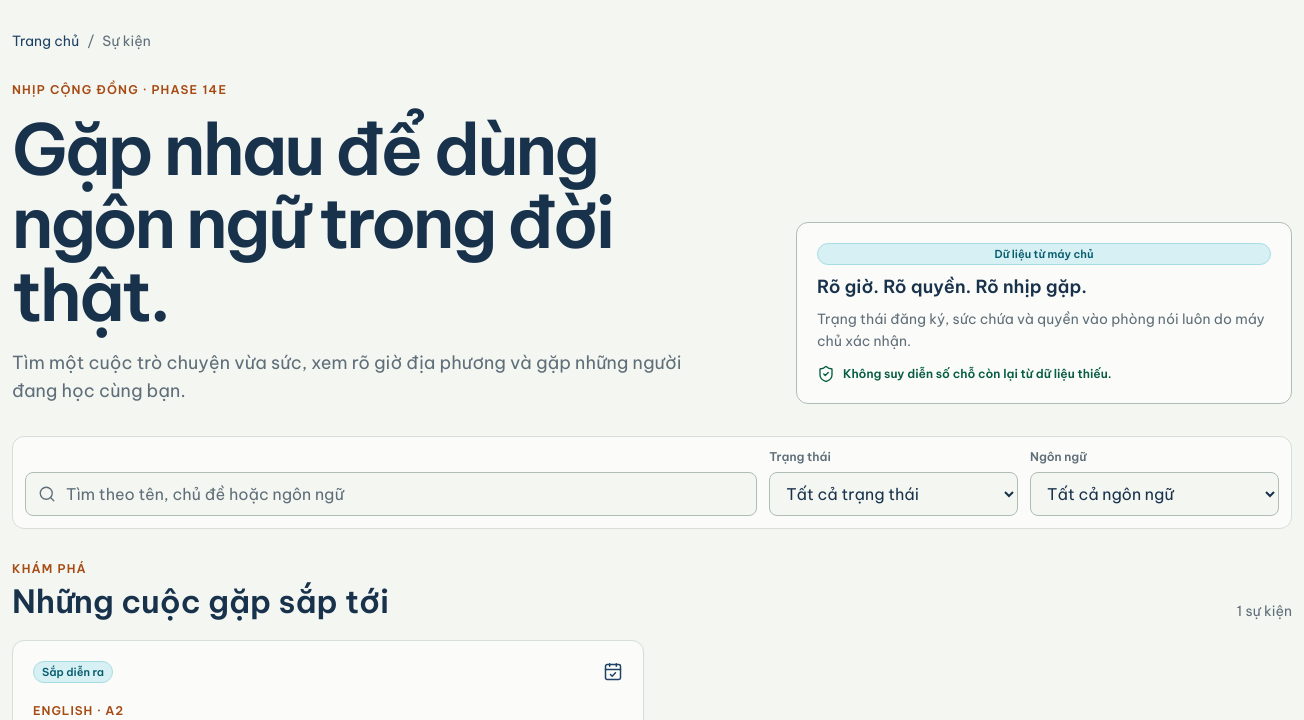
Scenario: EventDiscoveryPage › keeps an empty filtered list understandable
This screenshot has width=1304, height=720.
Type "không có" into the search field named "Tìm sự kiện". click: (404, 494)
box: [64,476,744,512]
(page scrolled)
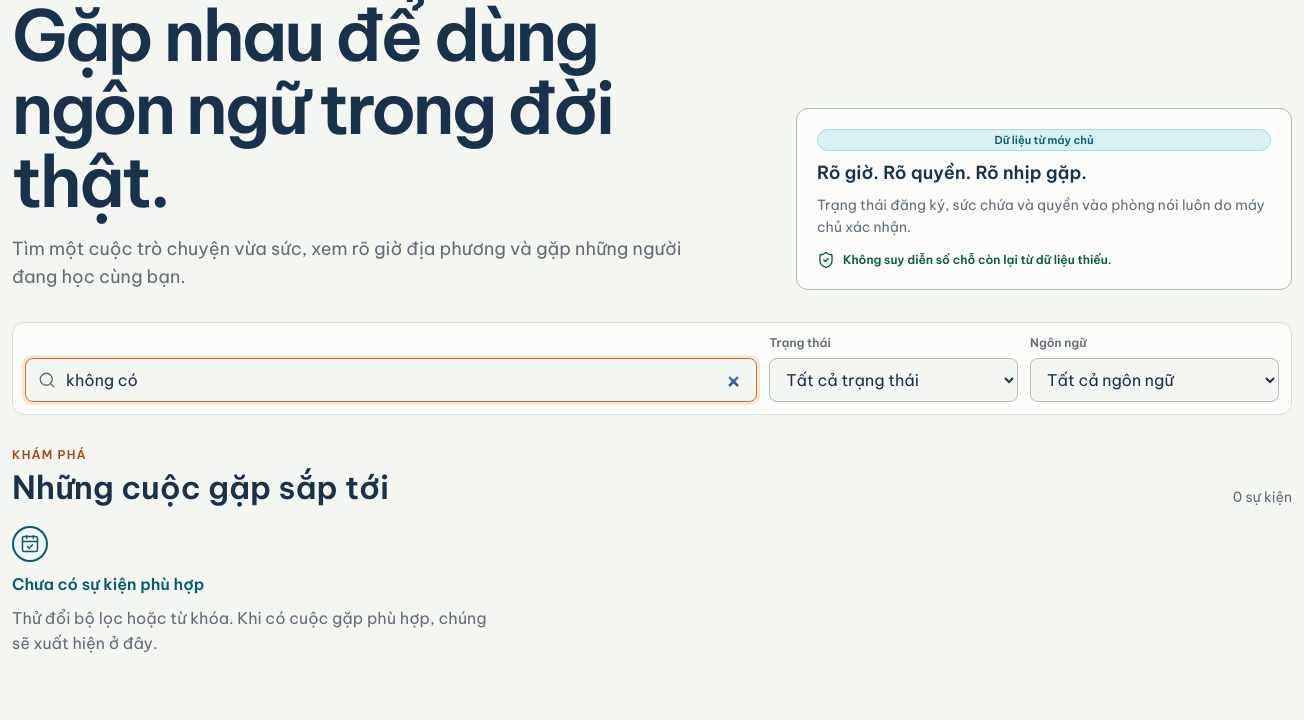
Check: the message shows "Chưa có sự kiện phù hợp", box [12,574,204,594]
